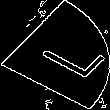L_NW: (15, 28, 95, 82)
